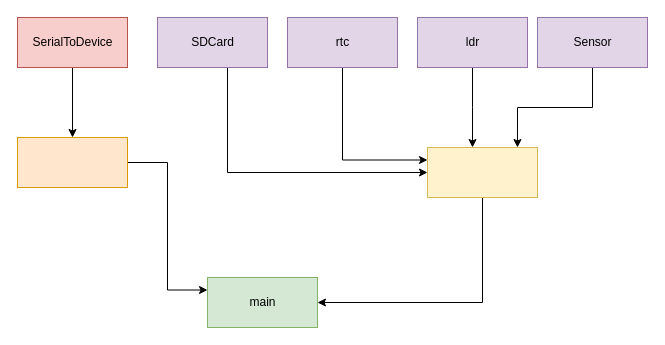
The diagram is 665 pixels wide and 345 high, and some of its shapes have lost their labels. The centre of each missing label's shape, as x and y in pixels:
"Logger" belongs at point (482, 172).
"Menu" belongs at point (72, 162).
